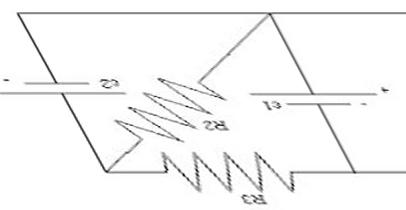resistor: (149, 144, 303, 195)
